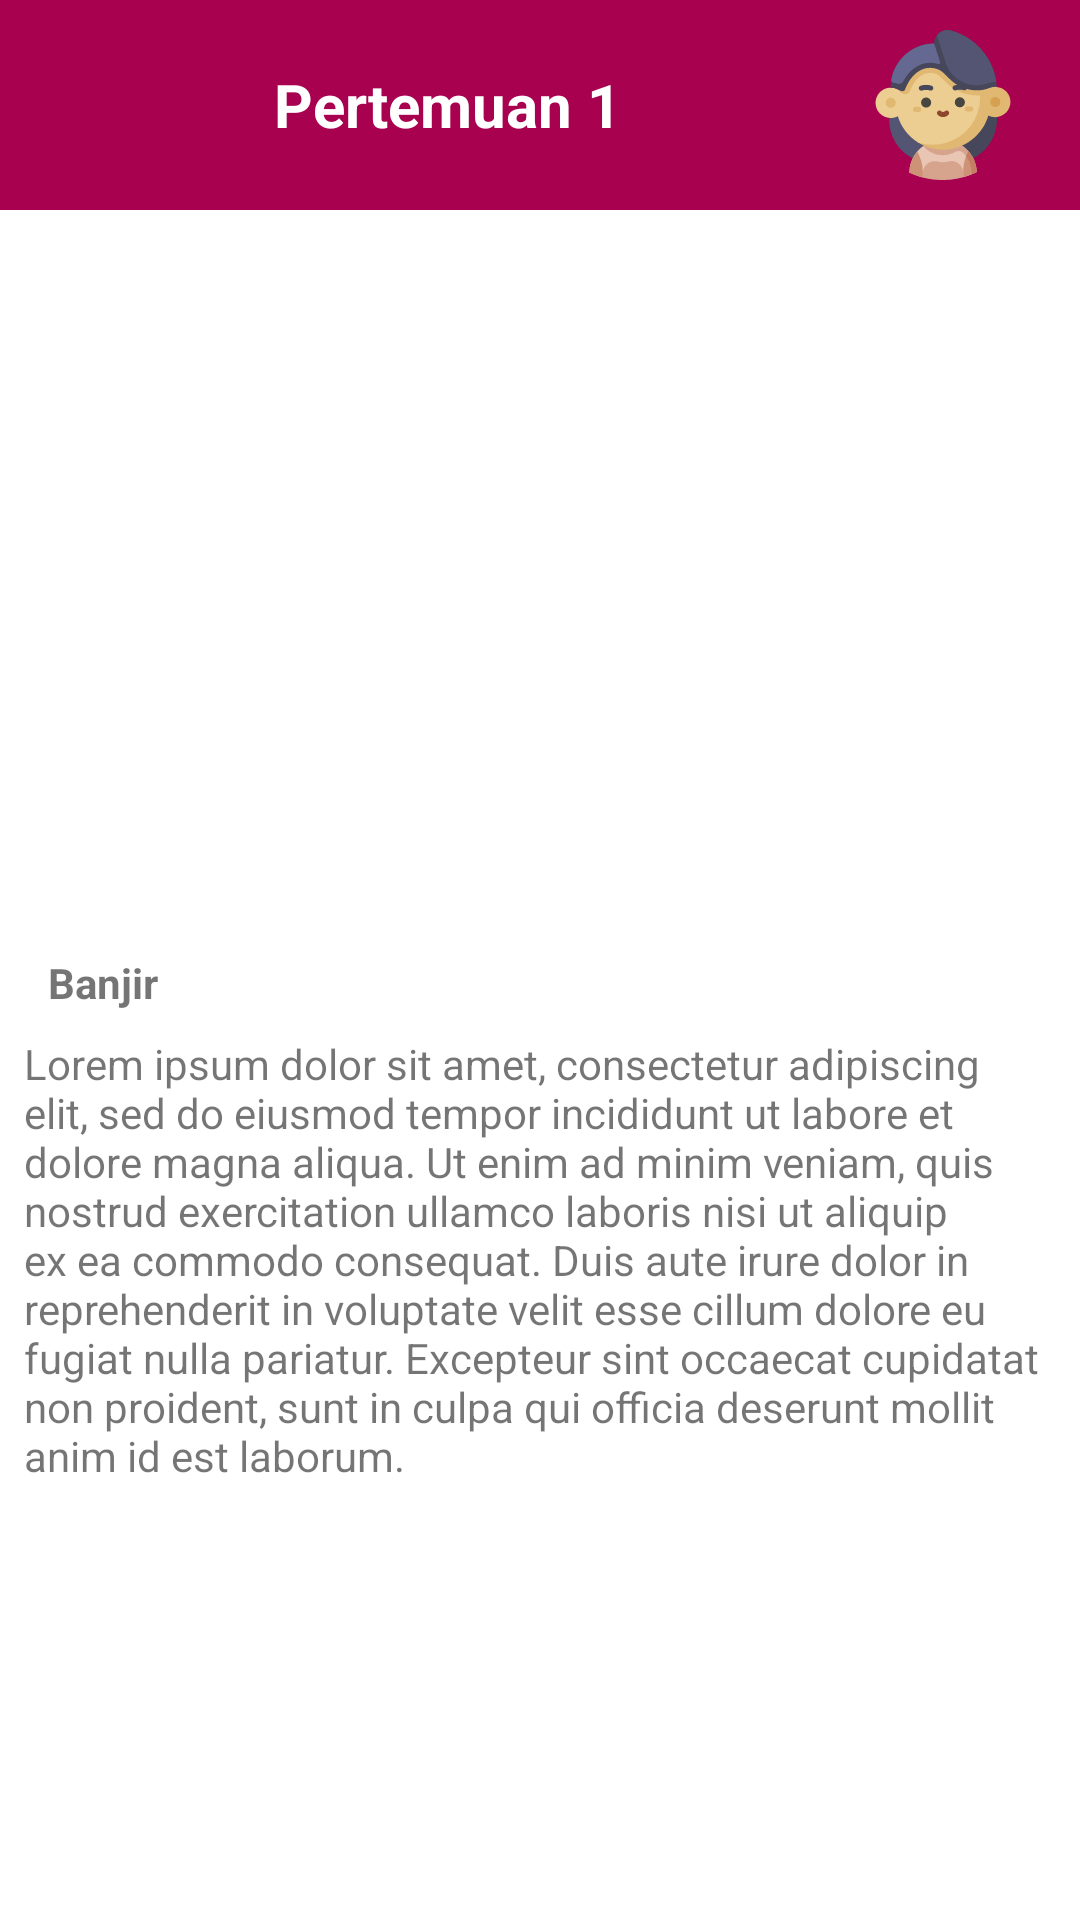

Icons on this 1080w x 1920h Android screen, each with the point to tap as (x=x, y=y):
woman user: (x=943, y=105)
